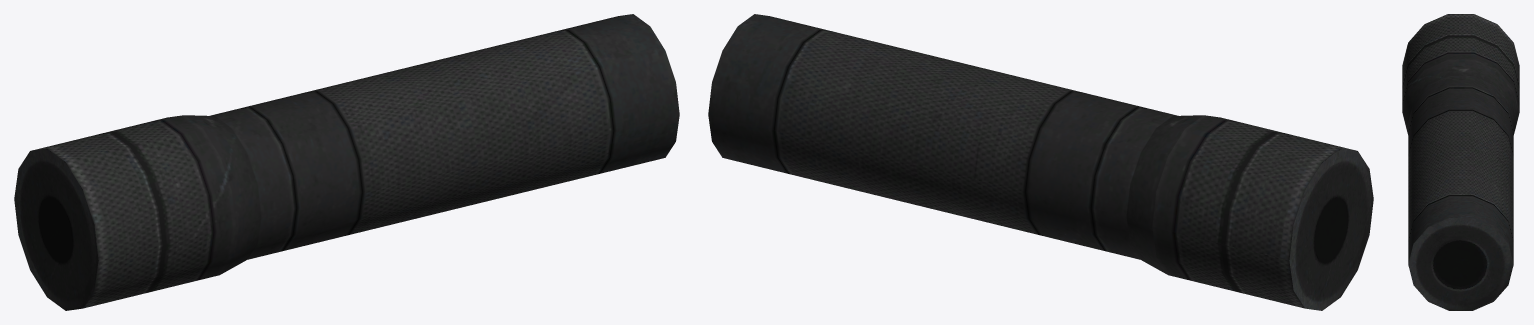
File: t6_attach_ar_silencer4_view_LOD0.obj
The picture shows the model from 3 angles, left to right: view 1: azimuth 30°, elevation 25°; view 2: azimuth 150°, elevation 25°; view 3: azimuth 270°, elevation 25°; orthographic projection. The views are drawn at different scales.
Visible parts, largest first — view 1: mtl_t6_attach_rus_silencer; view 2: mtl_t6_attach_rus_silencer; view 3: mtl_t6_attach_rus_silencer.
Part boxes in pixels (left/top/right/bottom): mtl_t6_attach_rus_silencer: left=14, top=14, right=679, bottom=310; mtl_t6_attach_rus_silencer: left=708, top=14, right=1373, bottom=310; mtl_t6_attach_rus_silencer: left=1402, top=14, right=1519, bottom=310.
Bounding box in the file's own units: 19.67 × 4.77 × 4.91.
